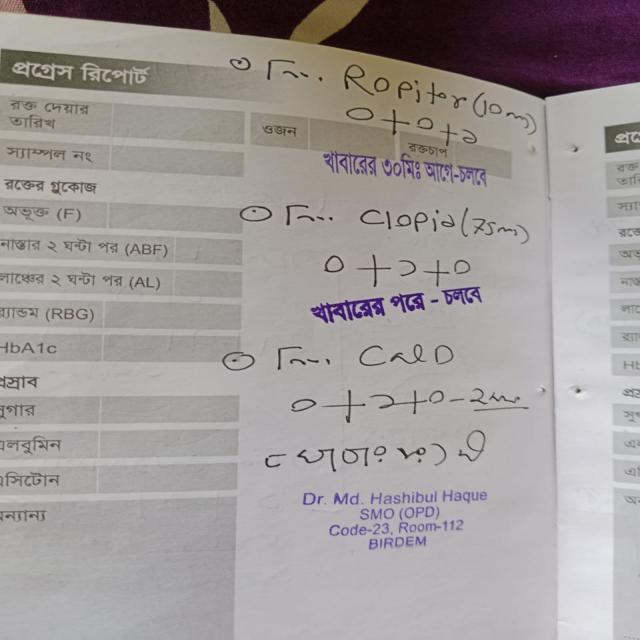Clopid: (344, 340, 468, 375), (354, 198, 464, 236)
